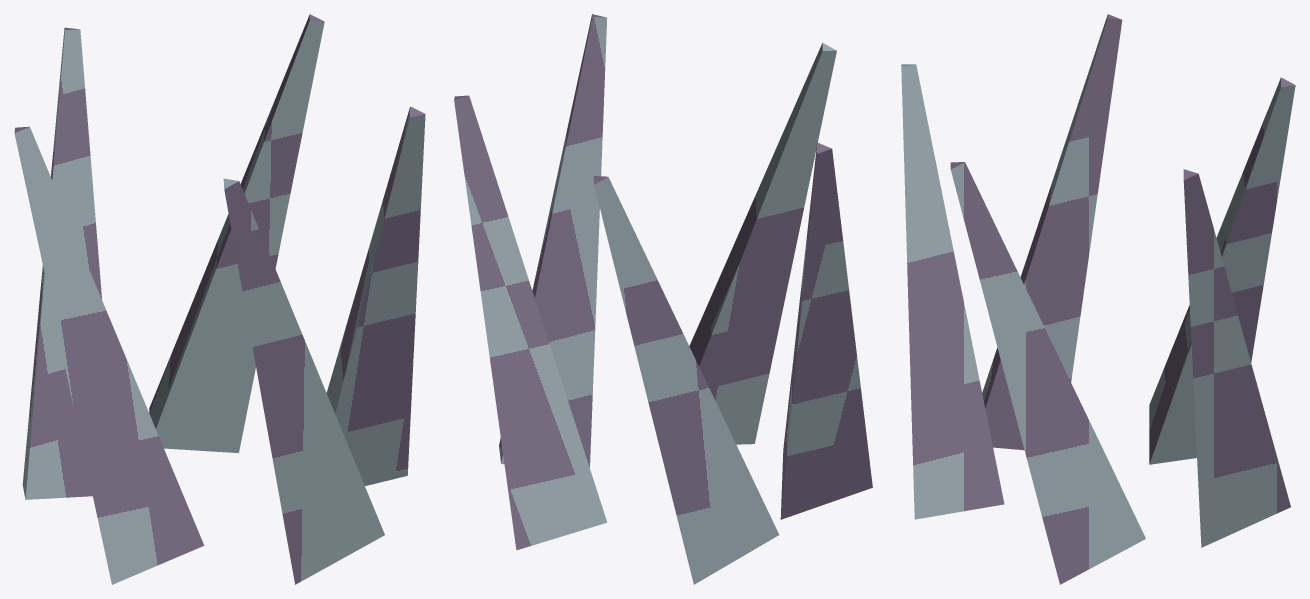
The model's file is a63_broto_verde.glb.
3 renders of one model, left to right at view 1: azimuth 30°, elevation 25°; view 2: azimuth 150°, elevation 25°; view 3: azimuth 270°, elevation 25°, orthographic. The views are drawn at different scales.
Visible parts, largest first — view 1: a63_broto_verde; view 2: a63_broto_verde; view 3: a63_broto_verde.
Part boxes in pixels (left/top/right/bottom): a63_broto_verde: left=14, top=14, right=425, bottom=584; a63_broto_verde: left=454, top=14, right=872, bottom=584; a63_broto_verde: left=901, top=14, right=1295, bottom=584.
Bounding box in the file's own units: 0.4083 × 0.4502 × 0.3937.
Materials: 1 (1 with a texture image).
